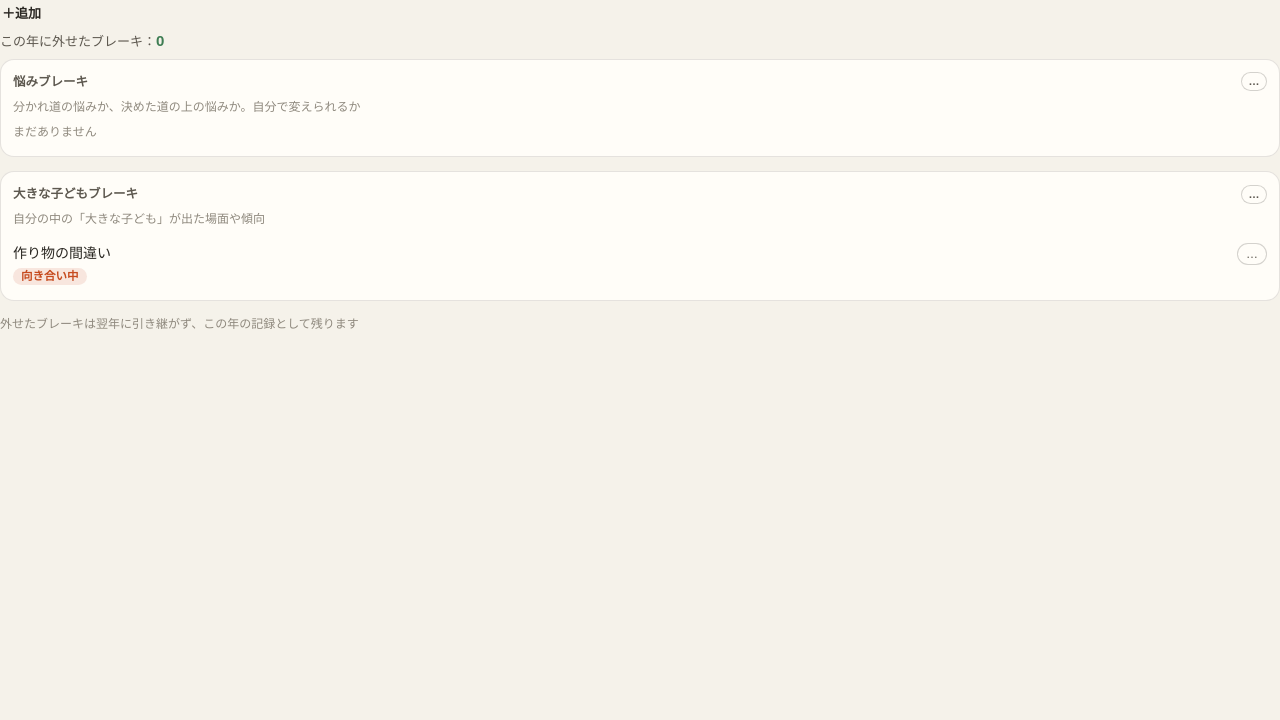
完全に削除する（画面） › 年ごとの種類（ブレーキ）：今年の年で書く
Click the button named "「作り物の間違い」の操作" at x=1252, y=254, box [1237,242,1267,264]
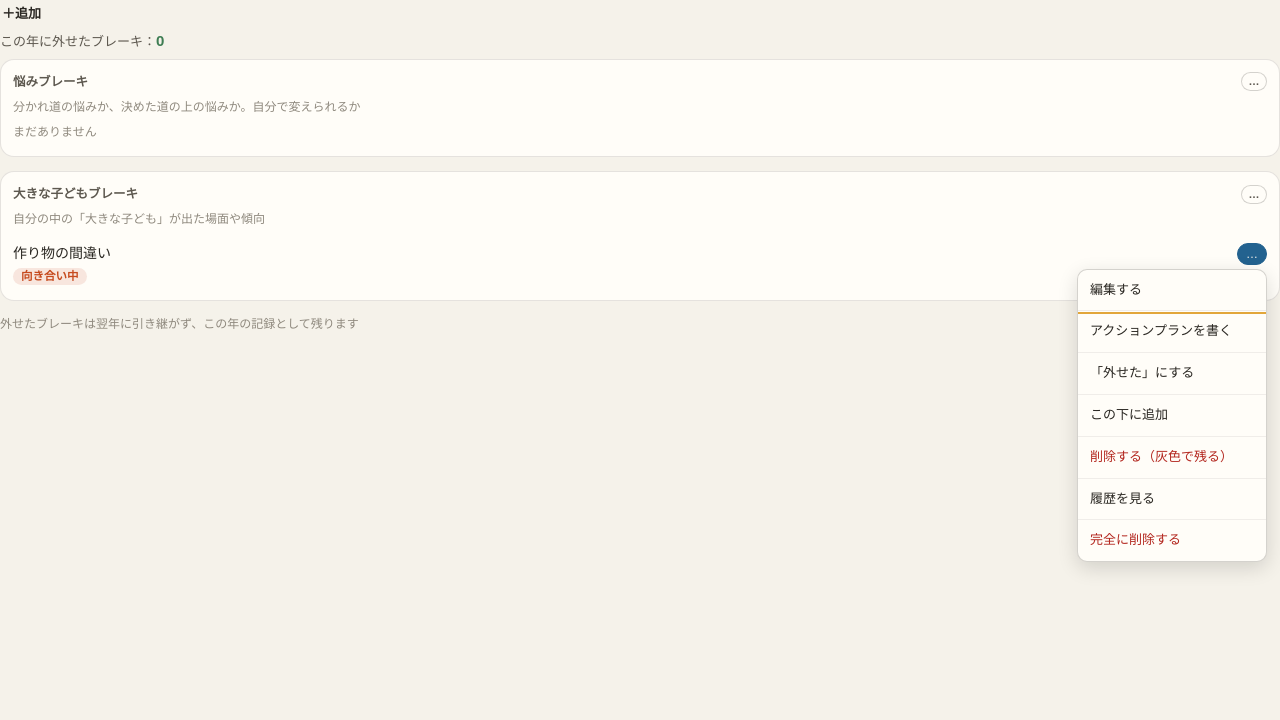
Click the menu item "完全に削除する" at x=1172, y=540, box [1078,519,1266,561]
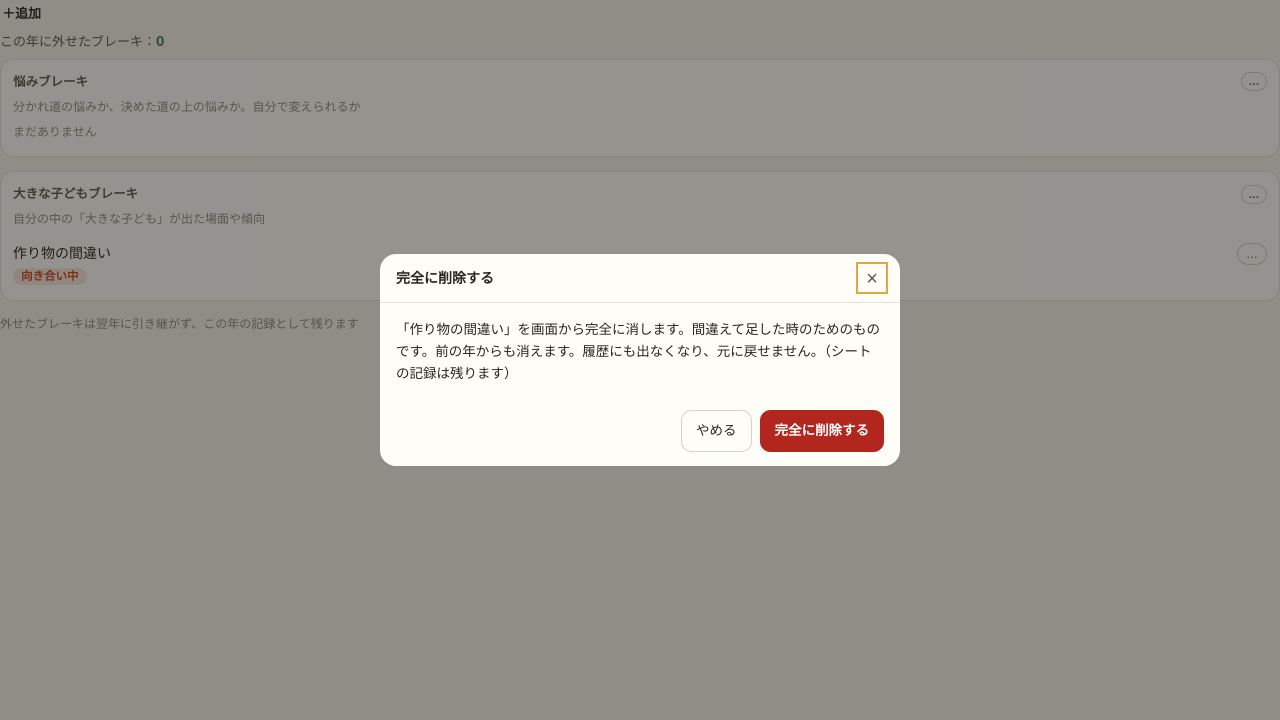
Click the button "完全に削除する" at x=822, y=431, box [760,410,884,452]
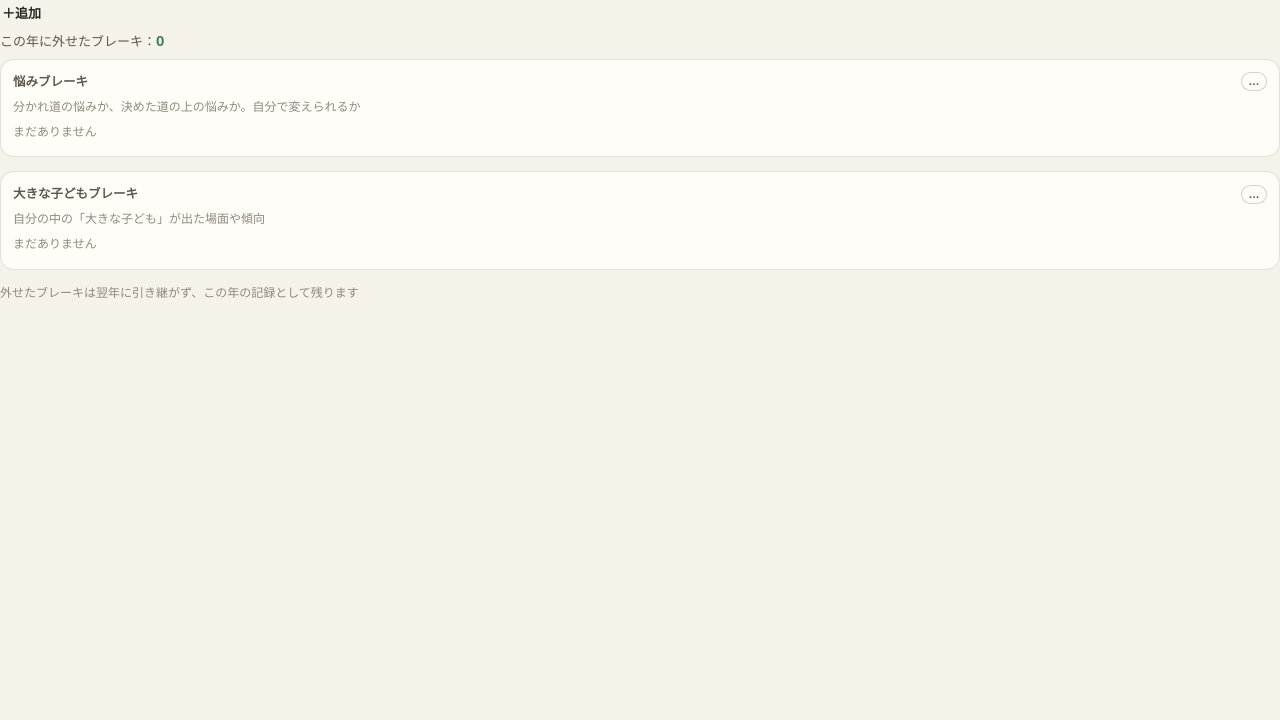
Expected: the text "作り物の間違い" is gone
